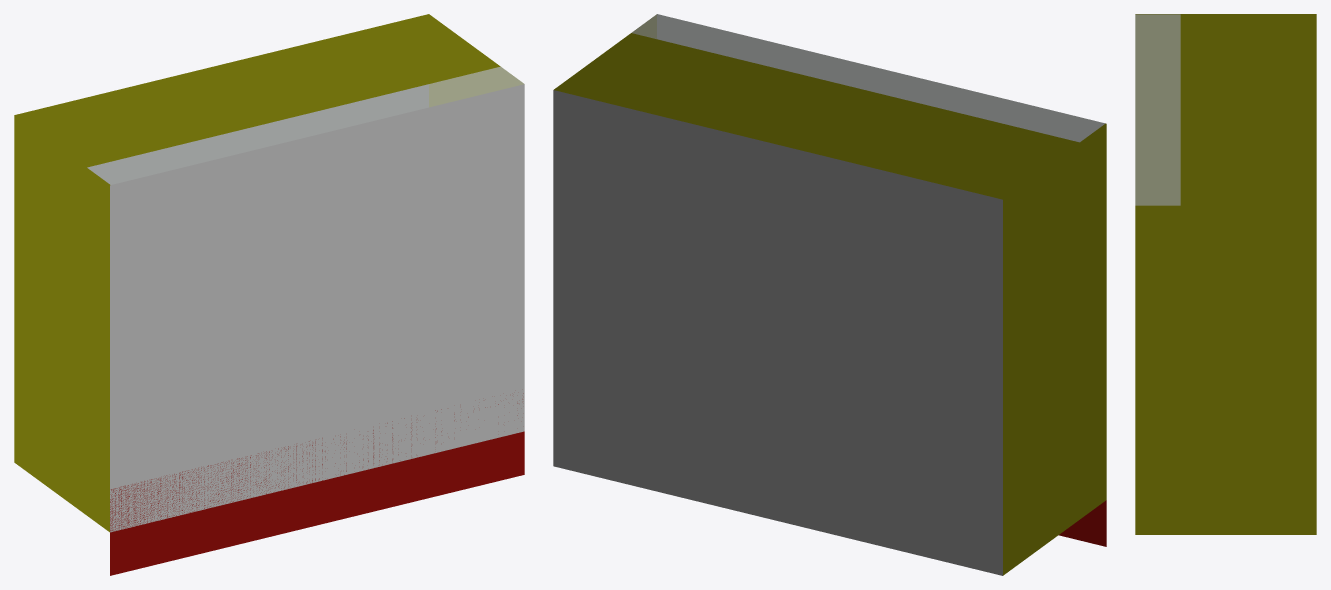
File: idf.obj
The picture shows the model from 3 angles, left to right: view 1: azimuth 30°, elevation 25°; view 2: azimuth 150°, elevation 25°; view 3: azimuth 270°, elevation 25°; orthographic projection. The views are drawn at different scales.
Bounding box in the file's own units: 10 × 9 × 4.
